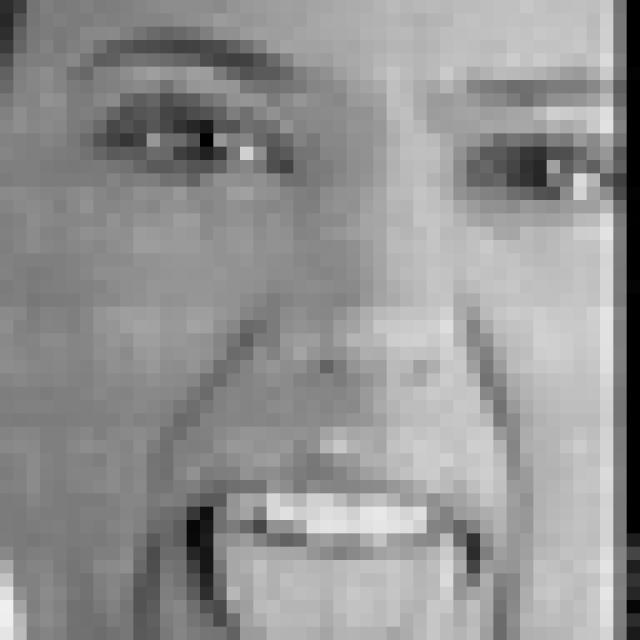disgust: (85, 33, 613, 640)
